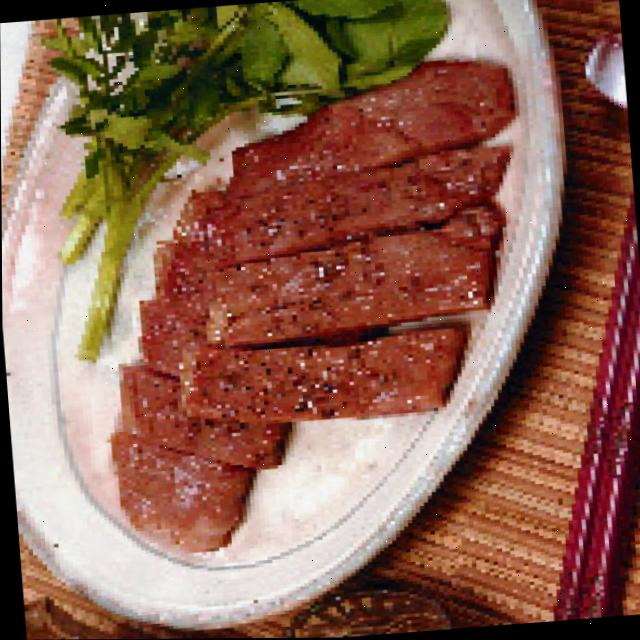牛肉菜式: (66, 50, 559, 559)
